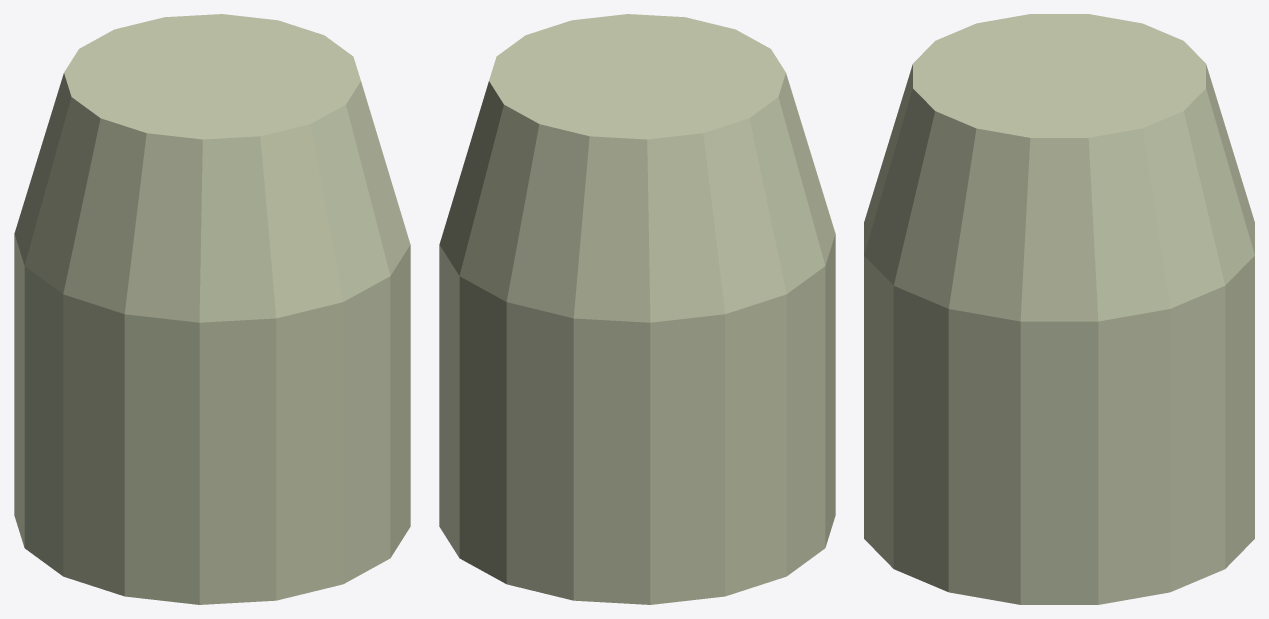
The model's file is vega_crew_s1_1_1_collider.obj.
3 views of the same model, side by side, from view 1: azimuth 30°, elevation 25°; view 2: azimuth 150°, elevation 25°; view 3: azimuth 270°, elevation 25° (orthographic).
Parts seen in each view (by area): view 1: Vega_Habitation_1_1_Collider; view 2: Vega_Habitation_1_1_Collider; view 3: Vega_Habitation_1_1_Collider.
Part boxes in pixels (x1,y1,x2,y2): Vega_Habitation_1_1_Collider: [14, 14, 410, 604]; Vega_Habitation_1_1_Collider: [439, 14, 835, 604]; Vega_Habitation_1_1_Collider: [864, 14, 1254, 604].
Size of the model in its own units: 1.25 by 1.58 by 1.25.
